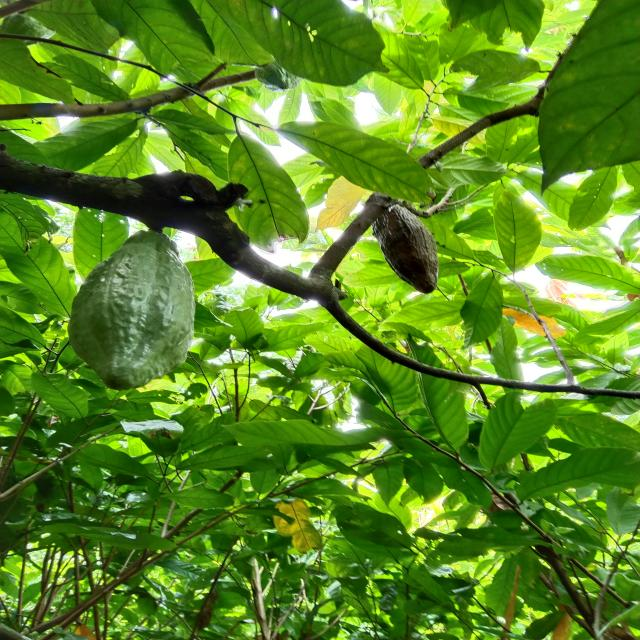Fitoftora: (363, 206, 447, 293)
Sana: (69, 228, 196, 390)
